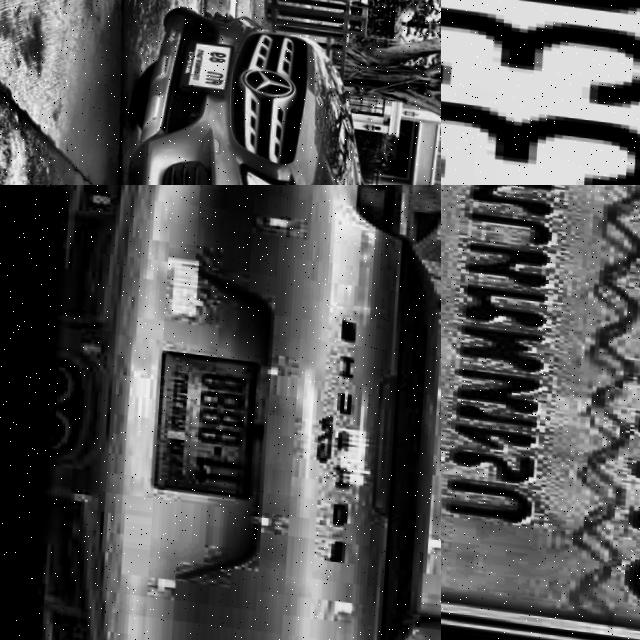license-plate: (441, 185, 640, 640), (441, 0, 640, 185), (149, 344, 260, 496), (182, 33, 236, 91)
